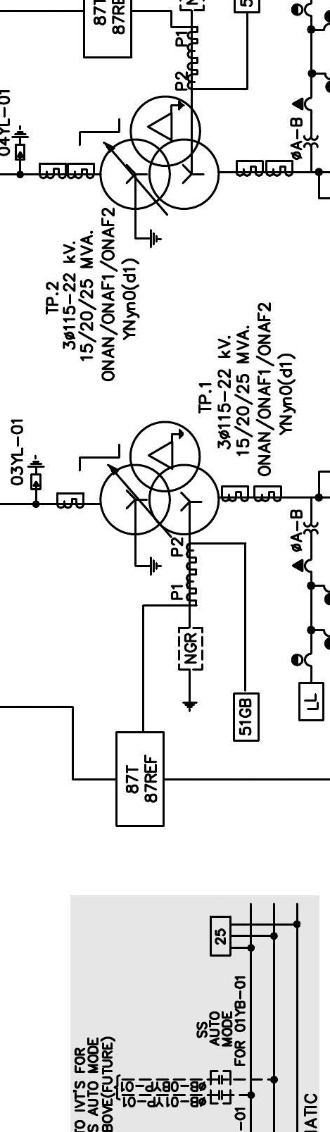11522_tx_ynyn0d1: (99, 420, 221, 536), (99, 95, 221, 211)
115_la: (11, 125, 30, 161), (27, 455, 45, 491)
LL: (298, 681, 324, 722)
NGR_future: (178, 626, 204, 712)
